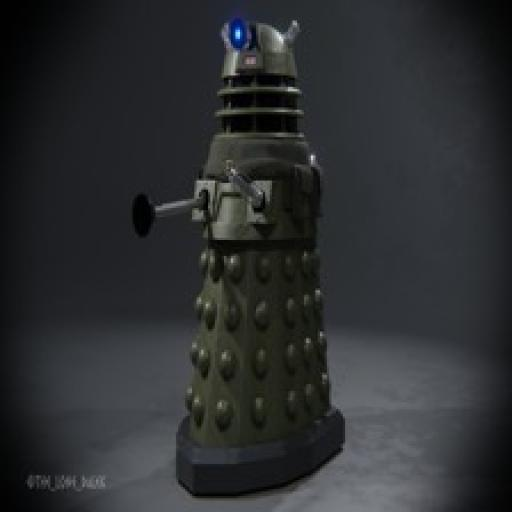dalek: (121, 14, 350, 498)
